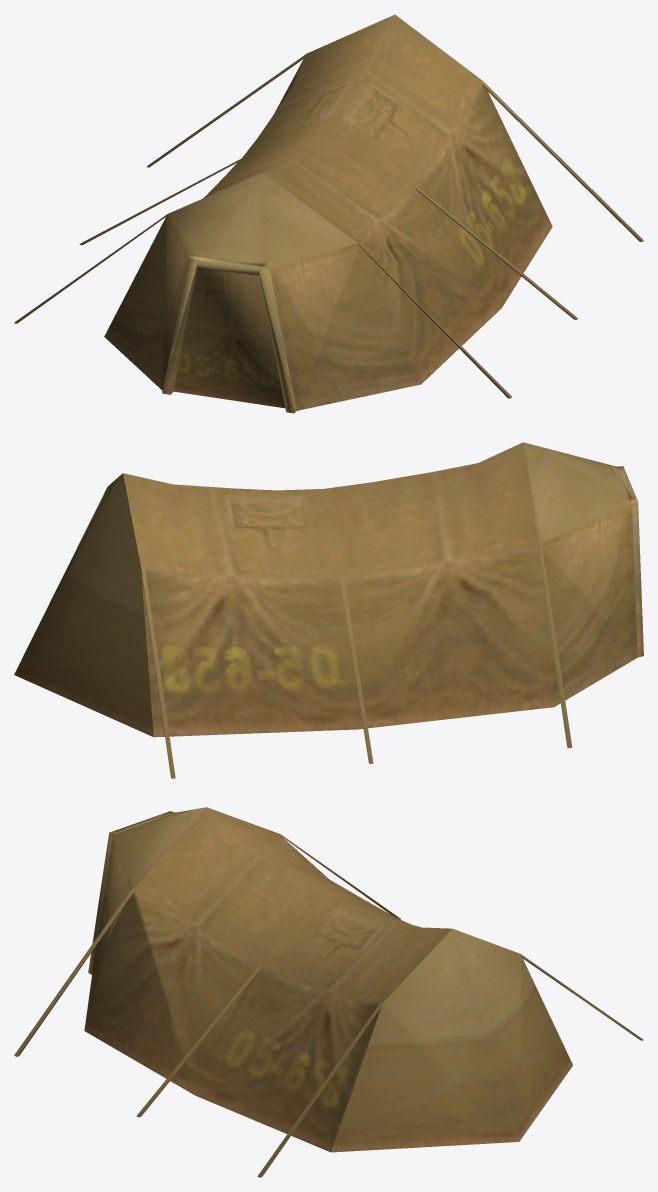
Rendered from M3_Tent02.glb.
3 views of the same model, one above another, from view 1: azimuth 30°, elevation 25°; view 2: azimuth 150°, elevation 25°; view 3: azimuth 270°, elevation 25° (orthographic). The views are drawn at different scales.
Parts seen in each view (by area): view 1: M3_TENT02; view 2: M3_TENT02; view 3: M3_TENT02.
Boxes of the visible parts, x1=… form: M3_TENT02: x1=14, y1=14, x2=643, y2=413; M3_TENT02: x1=14, y1=442, x2=643, y2=778; M3_TENT02: x1=14, y1=807, x2=643, y2=1177.
Size of the model in its own units: 8.57 by 2.77 by 8.77.
Materials: 7 (7 with a texture image).
